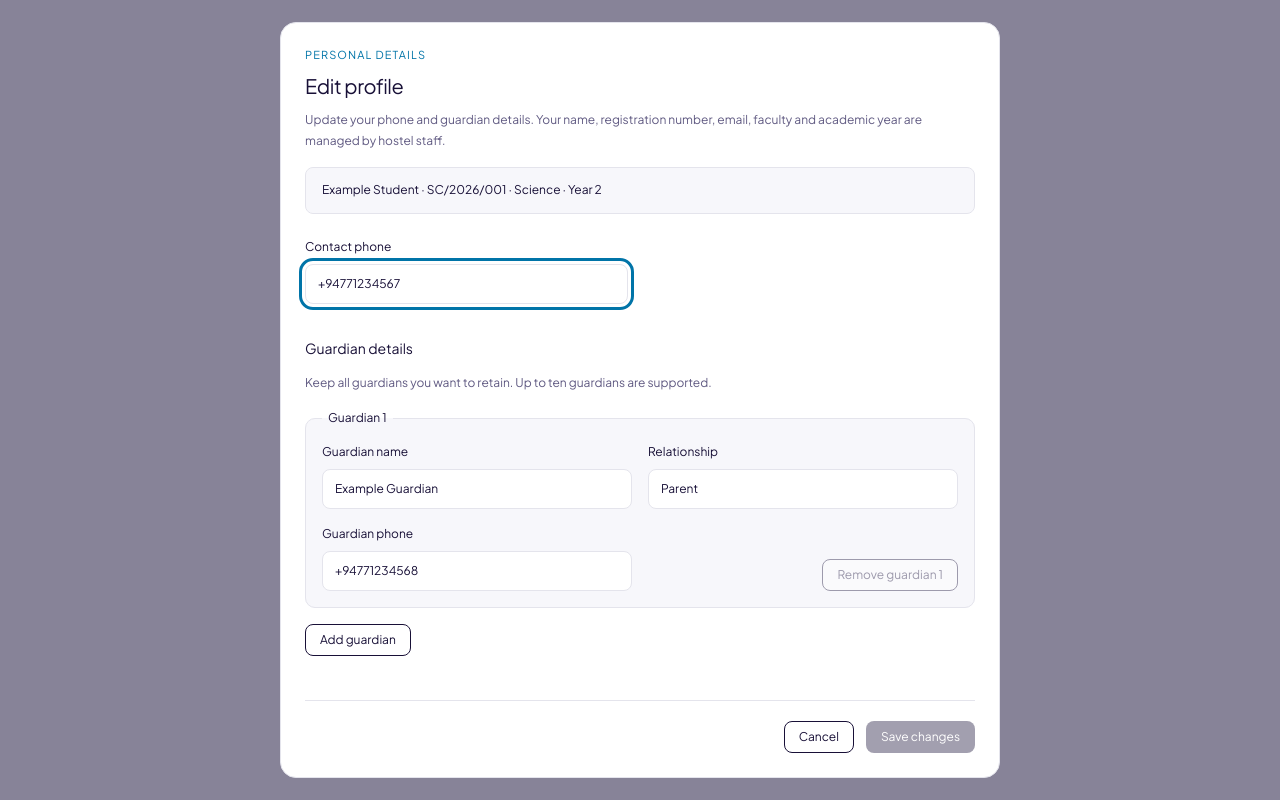
Test case: prevents duplicate saves and aborts pending work on unmount
This screenshot has width=1280, height=800.
Replace the text in the field labelled "Contact phone" with "0779999999": (466, 284) [305,264,628,304]
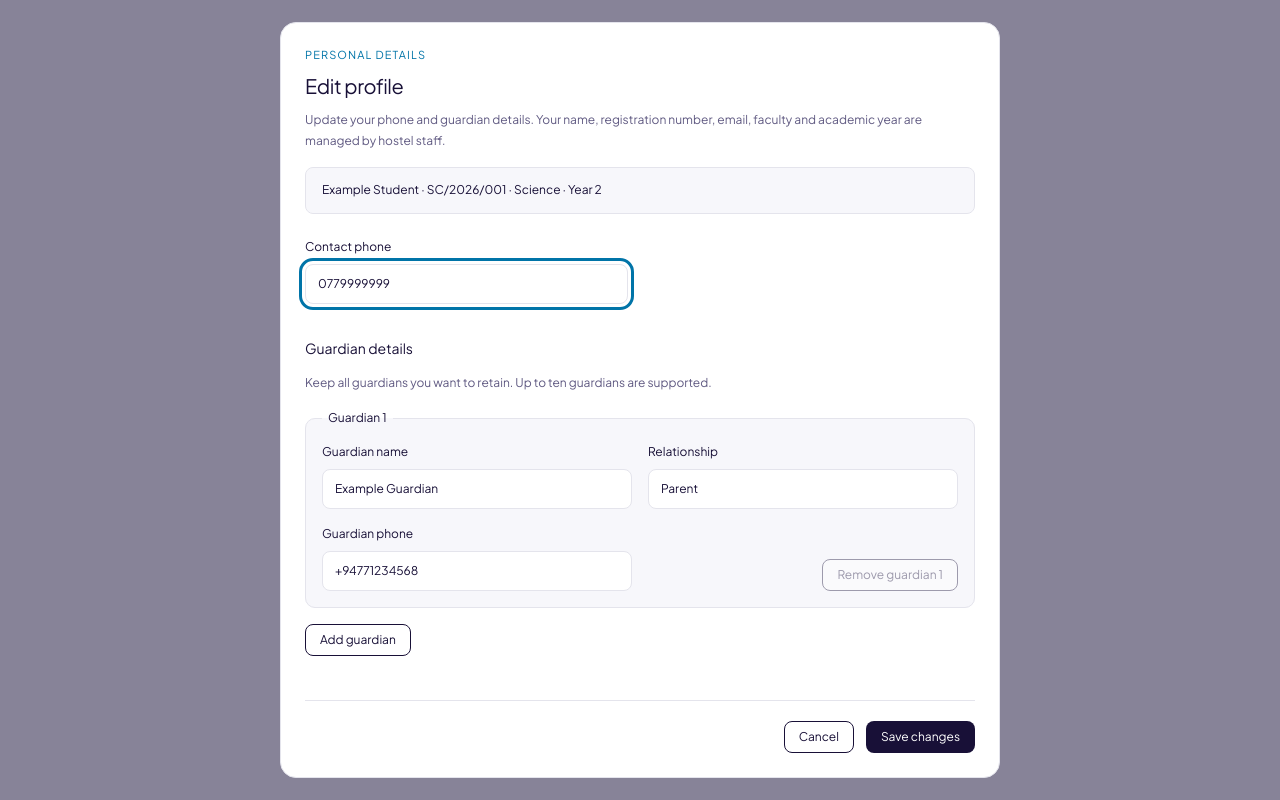
Double-click the button "Save changes": (920, 737) [866,721,975,753]
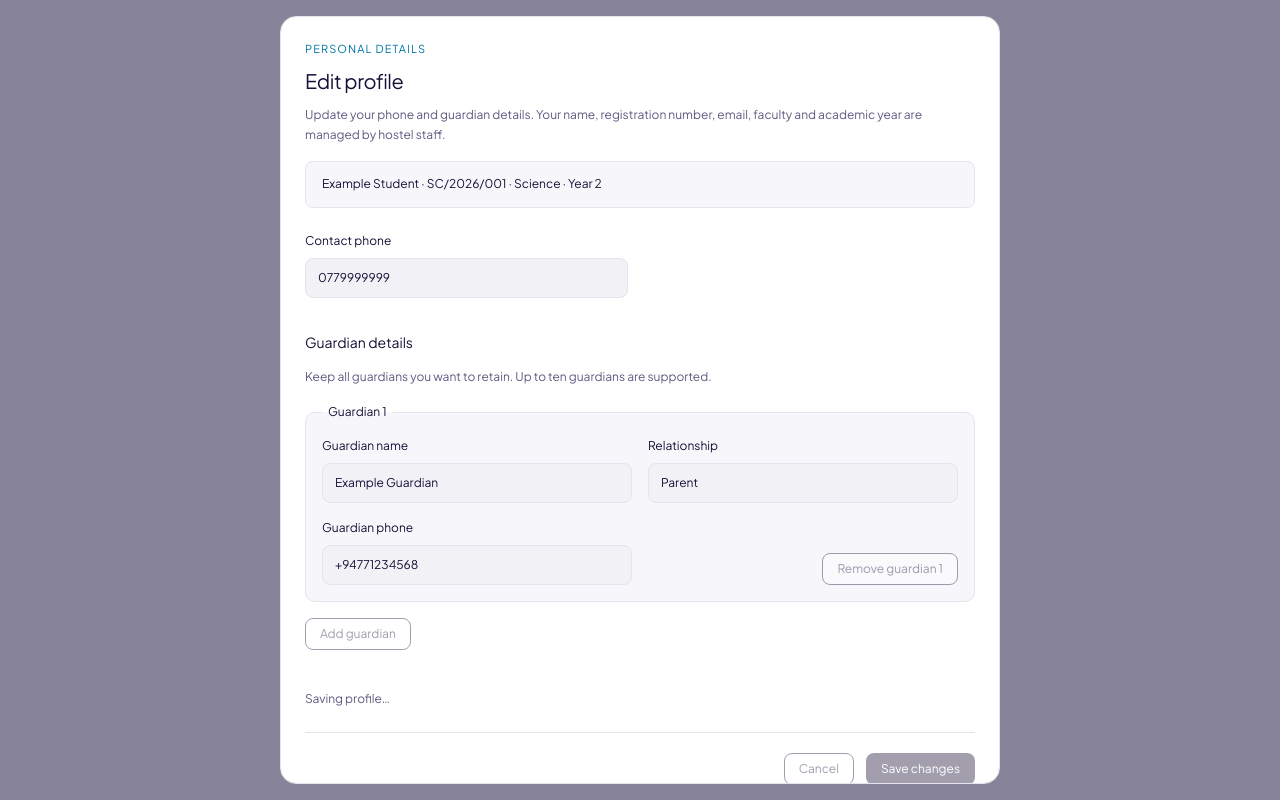
Expected: the button "Cancel" is disabled, [784,753,854,784]
